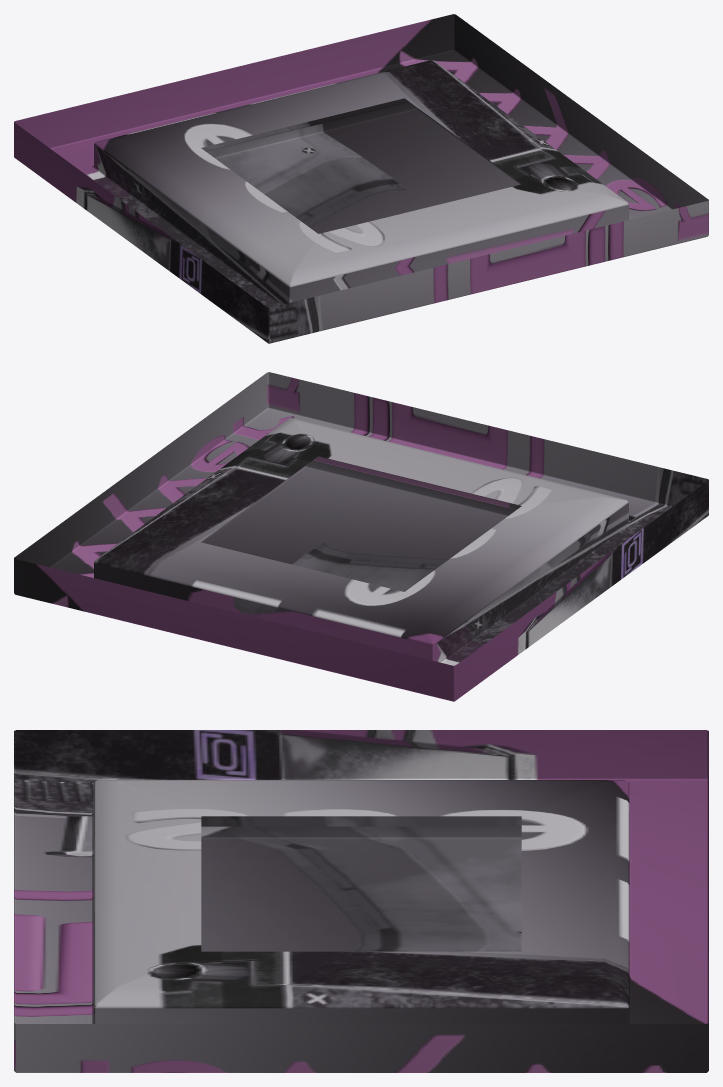
The model's file is SM_CeilingVent.fbx.
3 renders of one model, top to bottom at view 1: azimuth 30°, elevation 25°; view 2: azimuth 150°, elevation 25°; view 3: azimuth 270°, elevation 25°, orthographic. The views are drawn at different scales.
Parts seen in each view (by area): view 1: Cube; view 2: Cube; view 3: Cube.
Boxes of the visible parts, x1,y1,x2,y2 form: Cube: [14, 14, 708, 343]; Cube: [14, 372, 708, 701]; Cube: [14, 730, 708, 1072].
Size of the model in its own units: 64.88 by 64.88 by 5.14.
